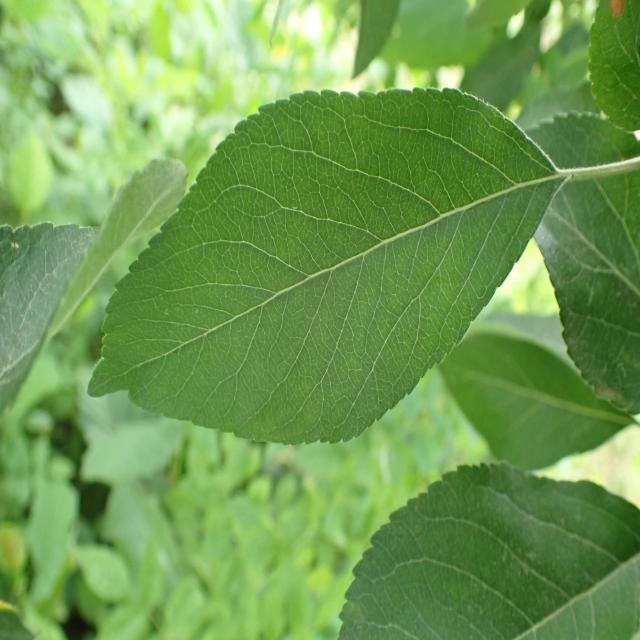healthy: (88, 86, 560, 447), (336, 460, 640, 640), (524, 112, 640, 414), (438, 328, 636, 471), (0, 221, 100, 413), (586, 0, 640, 132)
